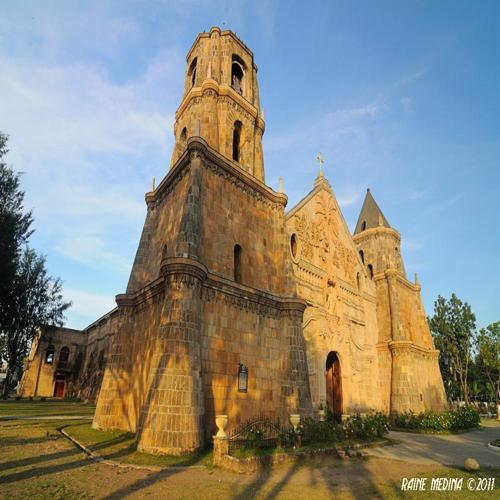Miagao Church: (121, 24, 449, 447)
